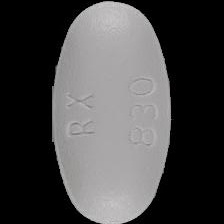54868-6322: (0, 0, 224, 224)
